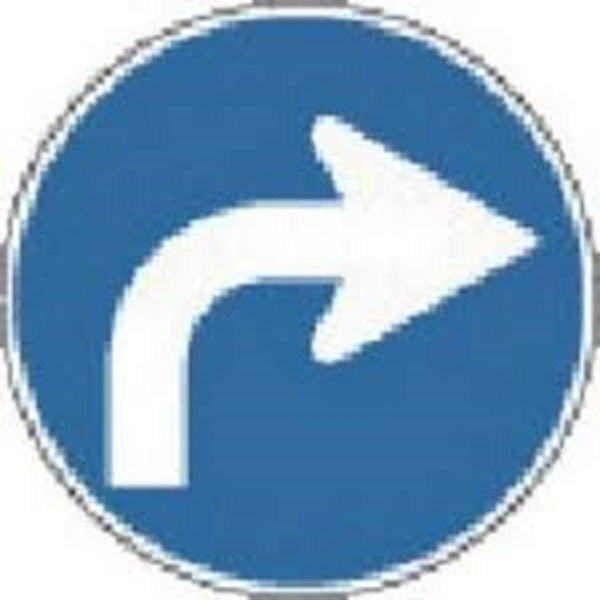sagaDon: (83, 106, 547, 507)
